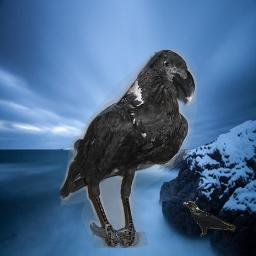Crow: (60, 49, 197, 248), (182, 201, 236, 237)
